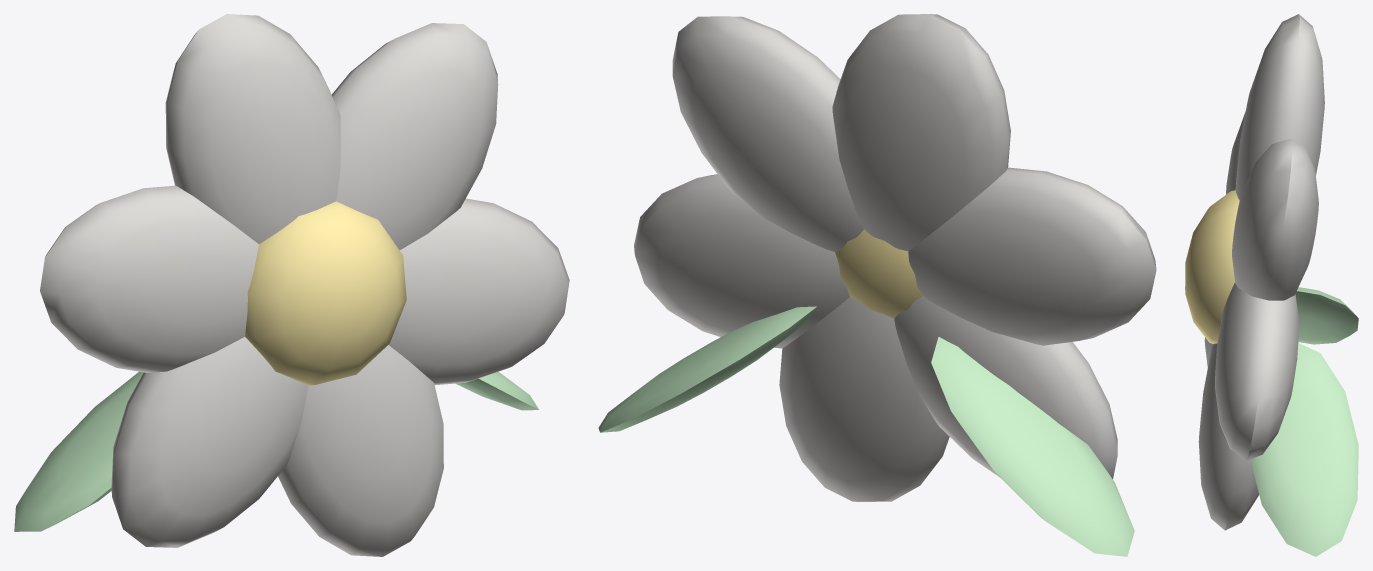
The model's file is Acc_FlowerBrooch.fbx.
The picture shows the model from 3 angles, left to right: view 1: azimuth 30°, elevation 25°; view 2: azimuth 150°, elevation 25°; view 3: azimuth 270°, elevation 25°; orthographic projection. The views are drawn at different scales.
Parts seen in each view (by area): view 1: Acc_FlowerBrooch; view 2: Acc_FlowerBrooch; view 3: Acc_FlowerBrooch.
Boxes of the visible parts, x1,y1,x2,y2 form: Acc_FlowerBrooch: [14, 14, 569, 556]; Acc_FlowerBrooch: [598, 14, 1156, 556]; Acc_FlowerBrooch: [1185, 14, 1358, 556].
Bounding box in the file's own units: 0.0437 × 0.0431 × 0.0147.
